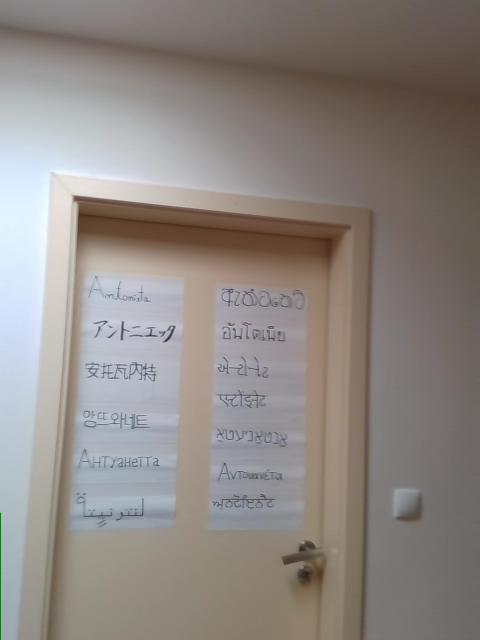door: (51, 215, 333, 637)
